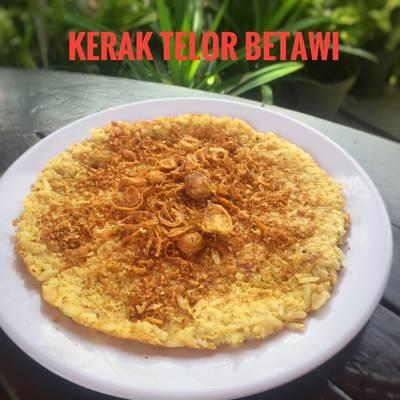kerak_telor: (16, 114, 352, 348)
